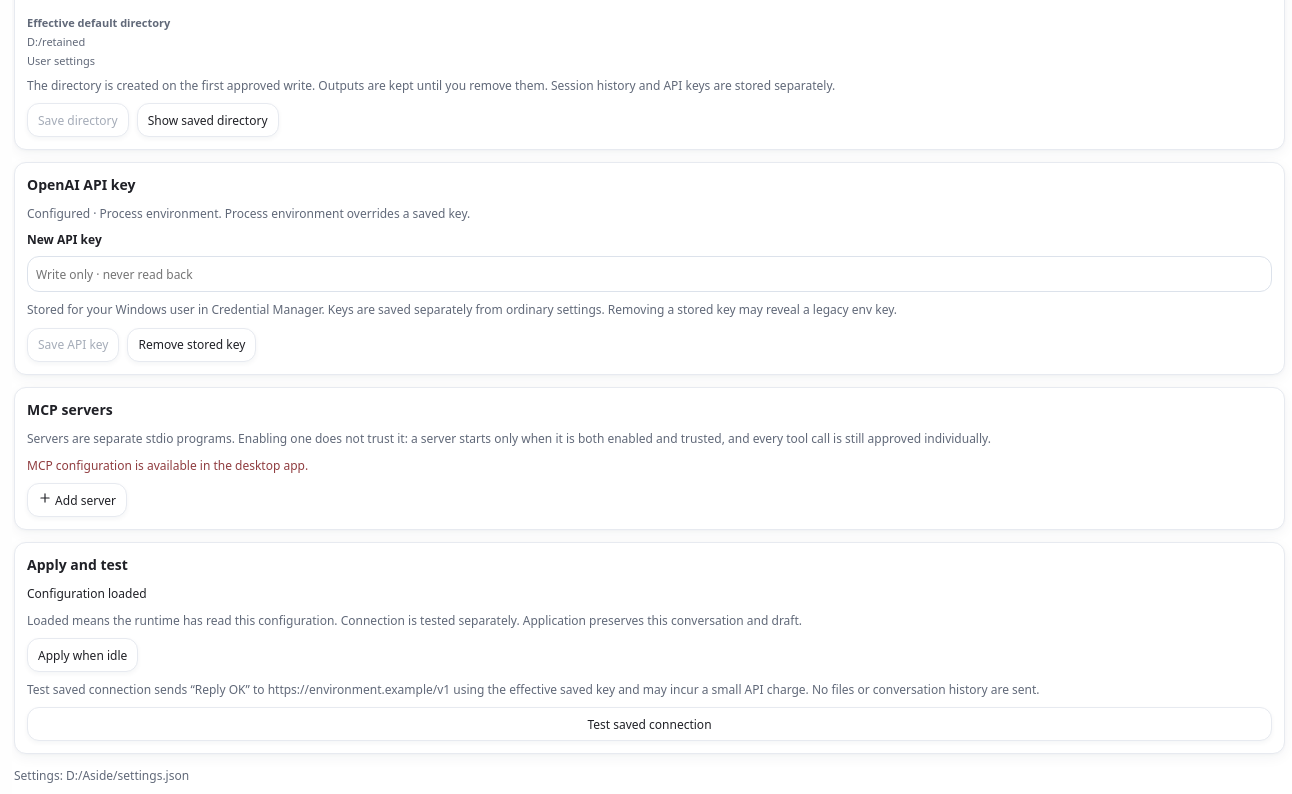
explains environment overrides and uses the effective saved endpoint for testing
The width and height of the screenshot is (1292, 794).
(page scrolled)
Click the button "Test saved connection" at (650, 724), box [27,707,1272,741]
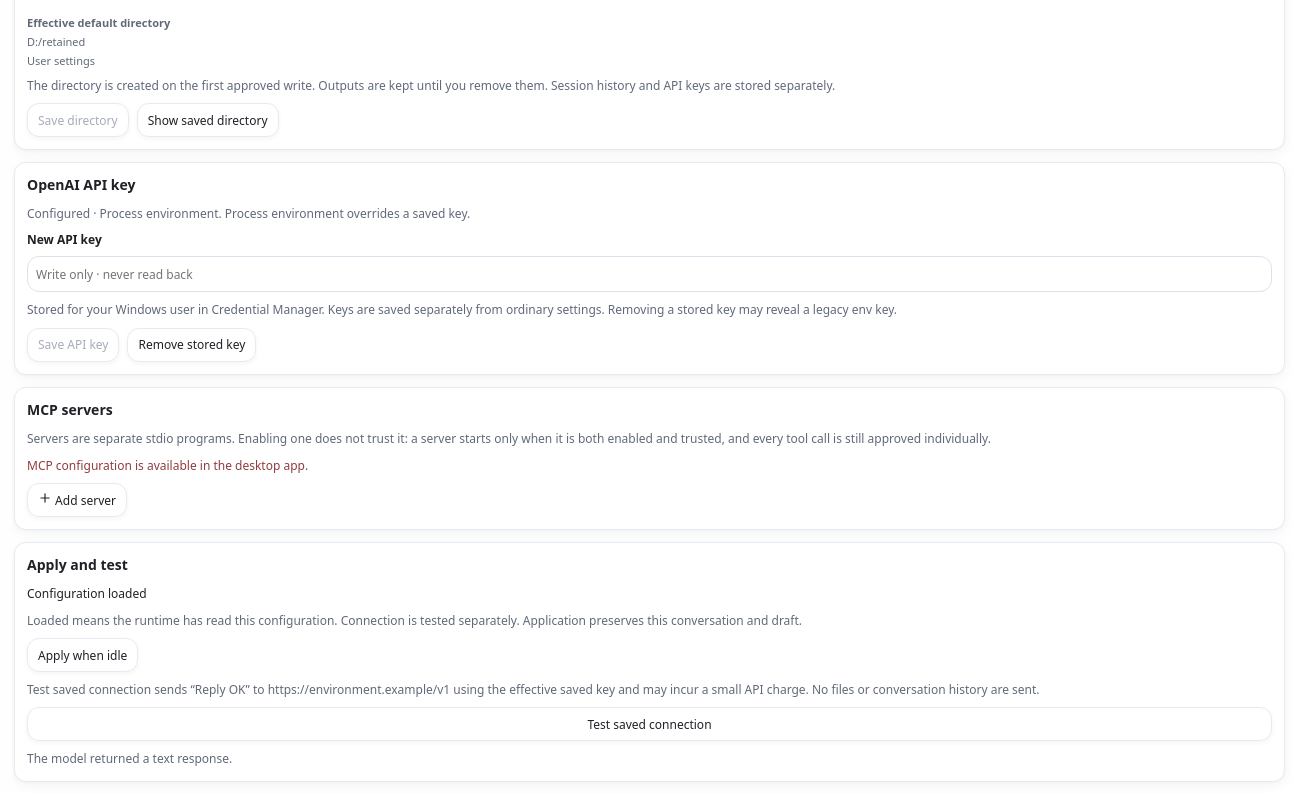
Now the text "The model returned a text response." is shown, box [27,750,232,767]
